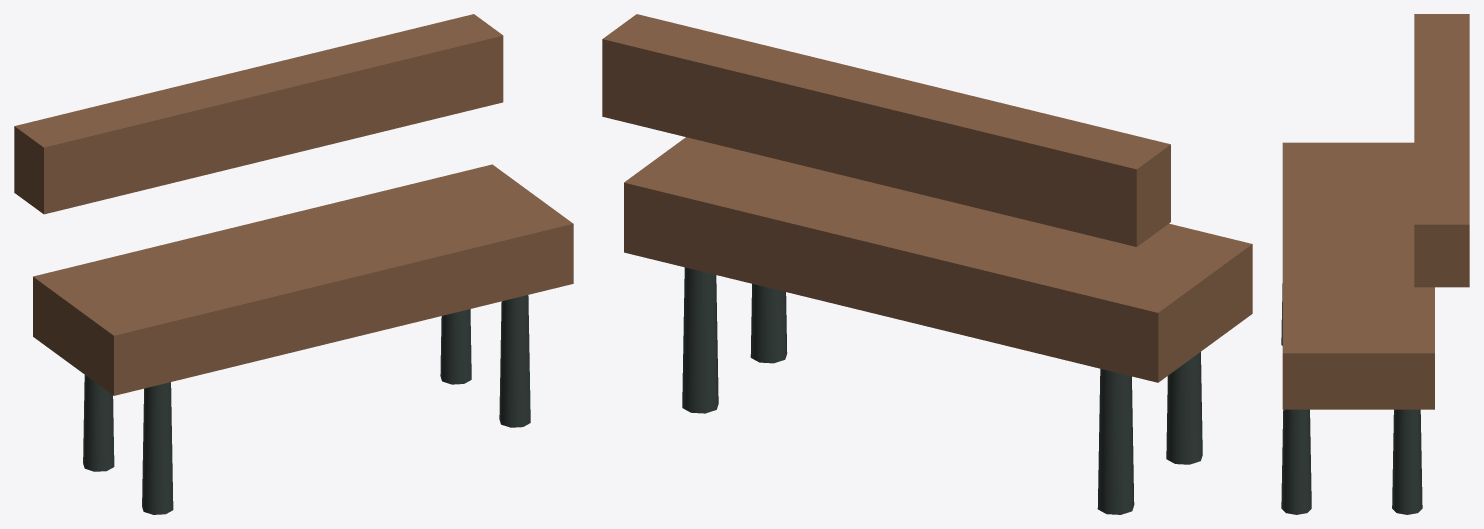
Rendered from bench.glb.
3 views of the same model, side by side, from view 1: azimuth 30°, elevation 25°; view 2: azimuth 150°, elevation 25°; view 3: azimuth 270°, elevation 25° (orthographic). The views are drawn at different scales.
Parts seen in each view (by area): view 1: seat, back, leg_0.28_b, leg_-0.28_b, leg_-0.28_a, leg_0.28_a; view 2: seat, back, leg_0.28_a, leg_-0.28_a, leg_-0.28_b, leg_0.28_b; view 3: seat, back, leg_0.28_b, leg_0.28_a.
Boxes of the visible parts, box(x1,y1,x2,y2) form: seat: box(33, 164, 573, 395); back: box(14, 14, 503, 214); leg_0.28_b: box(499, 295, 530, 427); leg_-0.28_b: box(142, 382, 173, 514); leg_-0.28_a: box(83, 375, 114, 471); leg_0.28_a: box(440, 309, 471, 384); seat: box(624, 137, 1252, 382); back: box(602, 14, 1170, 246); leg_0.28_a: box(682, 267, 718, 413); leg_-0.28_a: box(1097, 369, 1134, 514); leg_-0.28_b: box(1166, 352, 1202, 464); leg_0.28_b: box(750, 284, 787, 363); seat: box(1282, 142, 1434, 409); back: box(1414, 14, 1469, 287); leg_0.28_b: box(1281, 409, 1311, 514); leg_0.28_a: box(1392, 409, 1422, 514).
Size of the model in its own units: 0.72 by 0.49 by 0.272.
